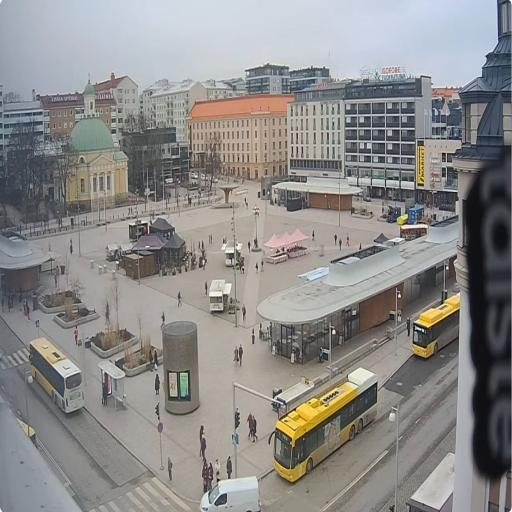bus: (267, 364, 377, 485), (27, 334, 85, 420), (410, 290, 460, 363), (14, 415, 40, 451)
car: (362, 193, 372, 203), (192, 170, 200, 182), (200, 173, 209, 182), (210, 176, 218, 184)
delivery: (198, 472, 260, 512)
